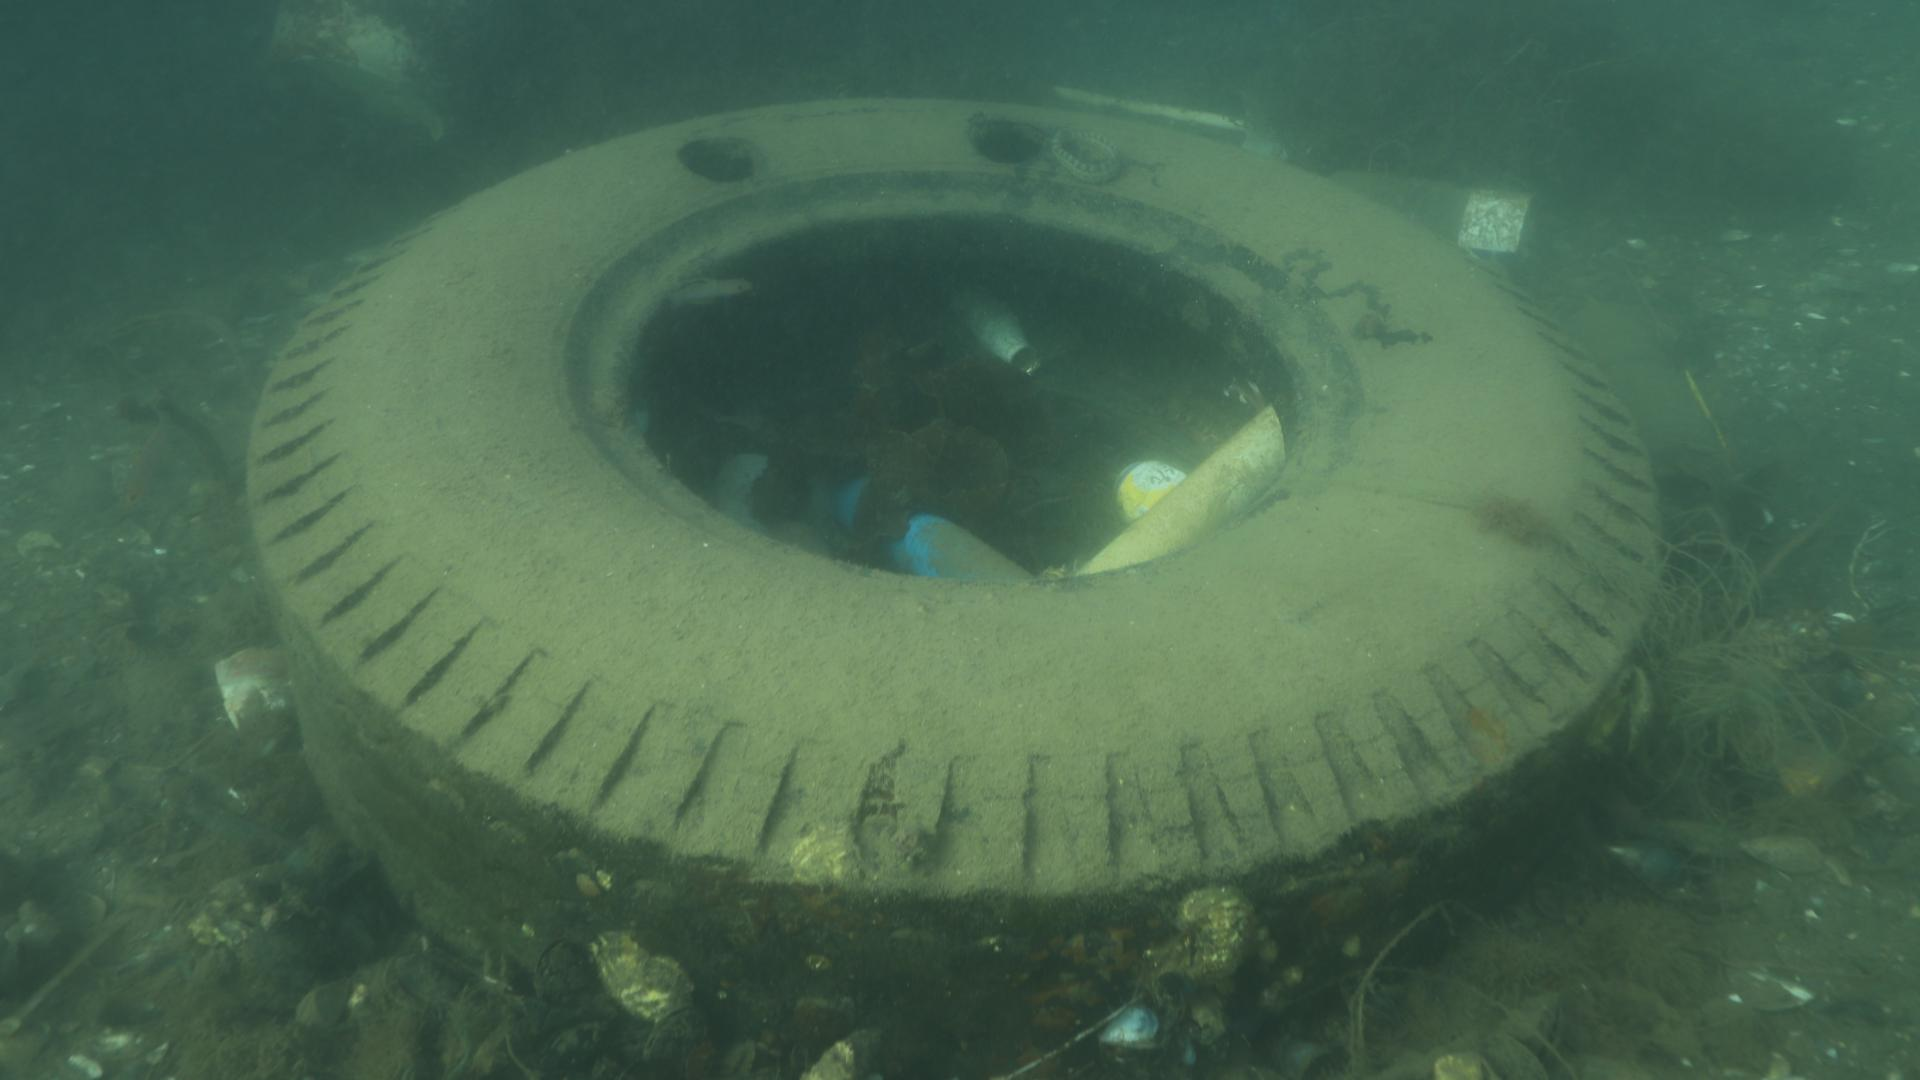tire: (245, 96, 1660, 1062)
